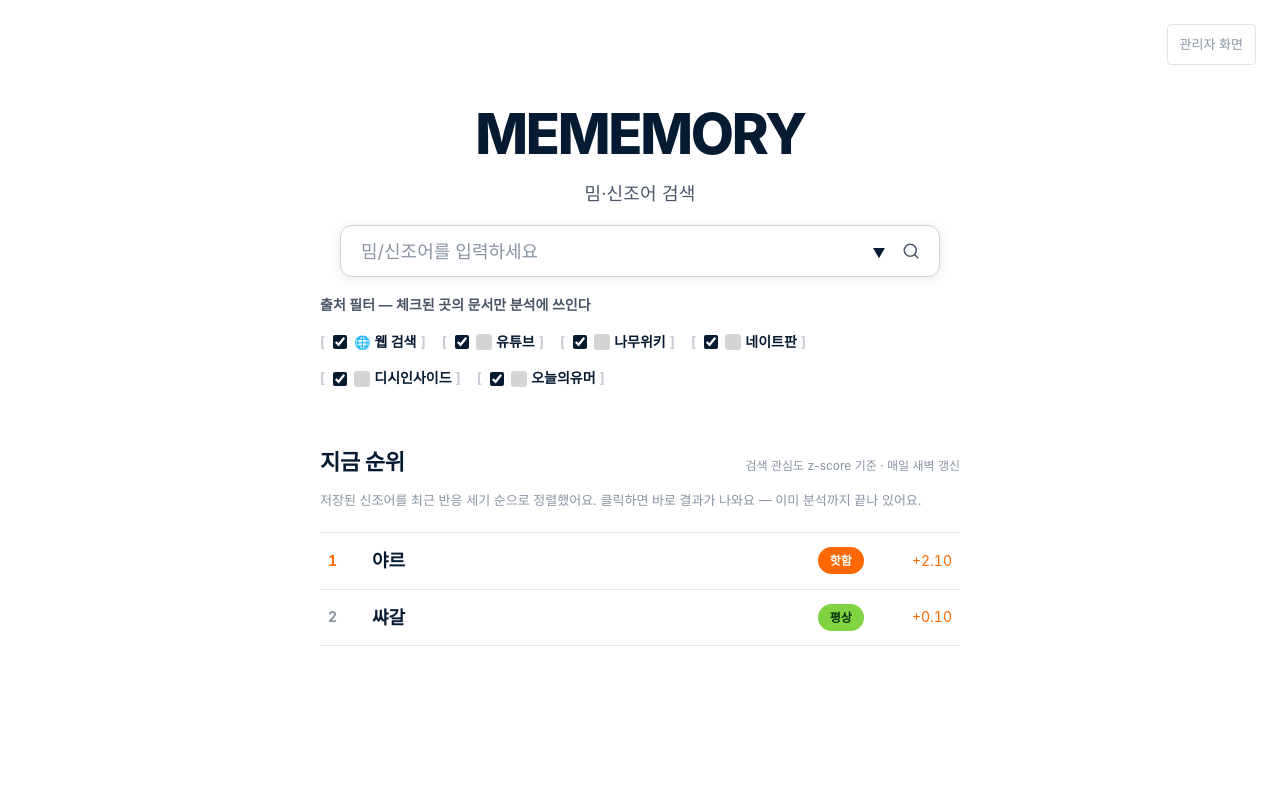
Test: App › 순위표에 순위/상태/z-score가 있는 키워드를 클릭하면 결과 화면으로 전환된다
Expected: the text "핫함" is shown, [818,547,864,574]
What coordinates should you click on to do the following:
click the text "야르"
I would click on:
 (388, 561)
Its box is [372,550,405,571].
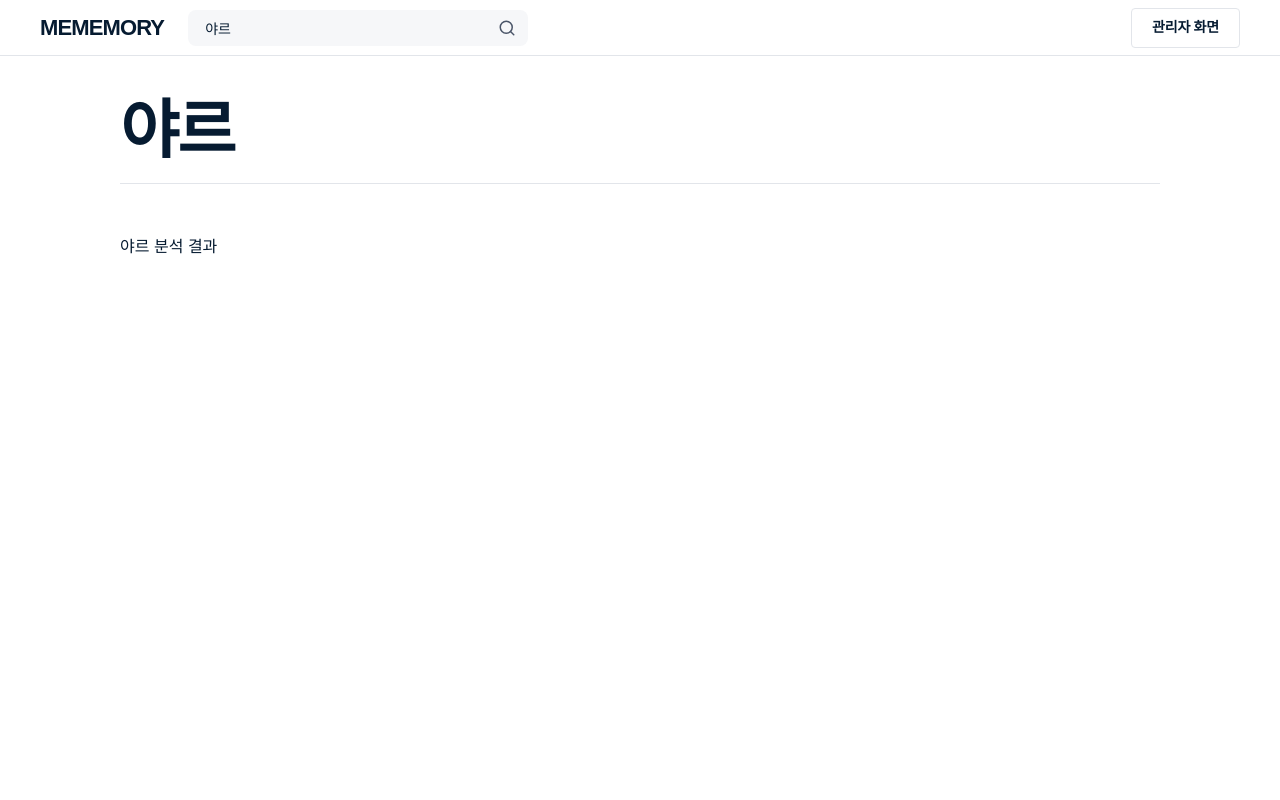
Expected: the text "야르 분석 결과" is shown, [120,236,217,256]
Expected: the button "핫함" is gone
